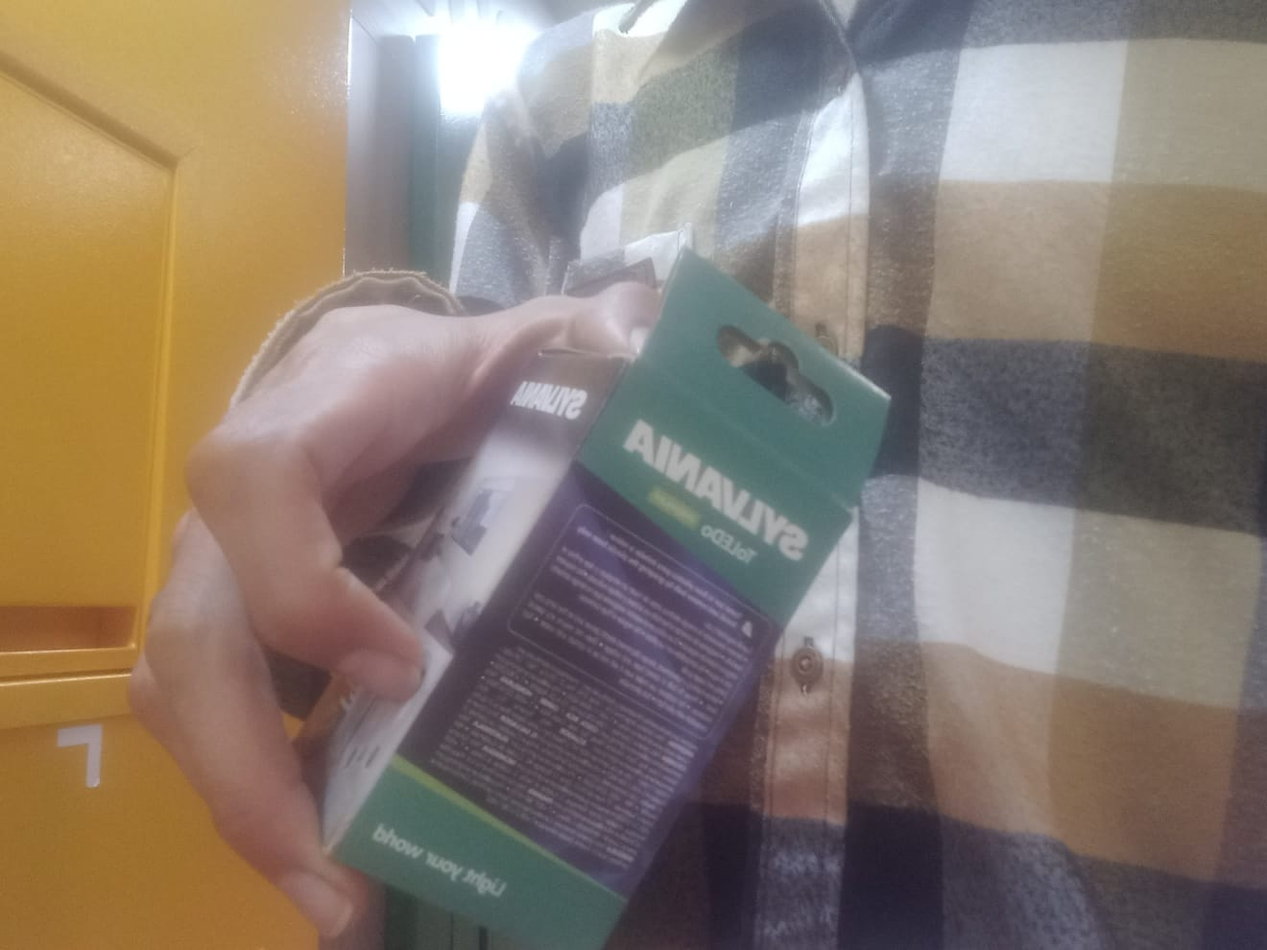Carton: (313, 249, 895, 950)
